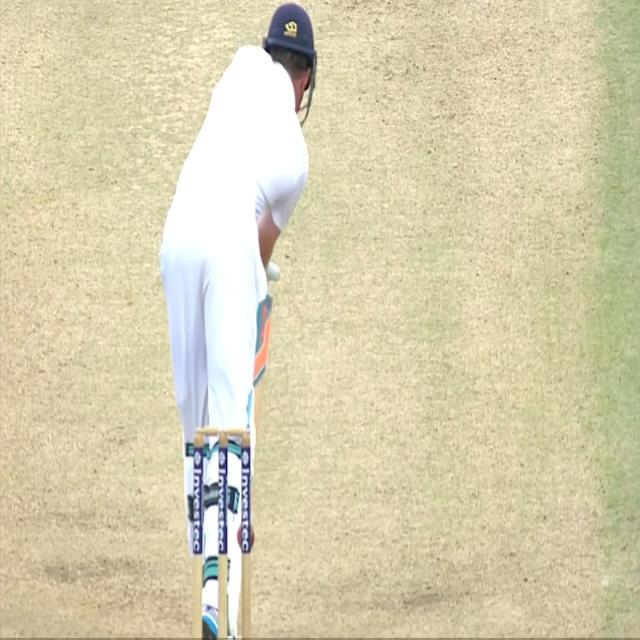ball: (237, 520, 255, 549)
